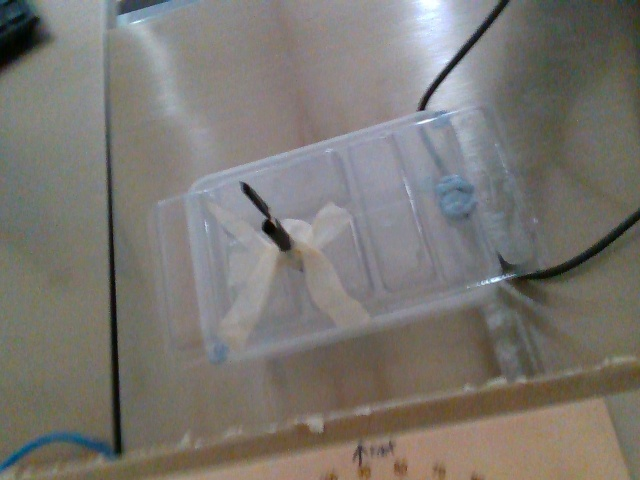test_strip: (236, 180, 275, 228)
